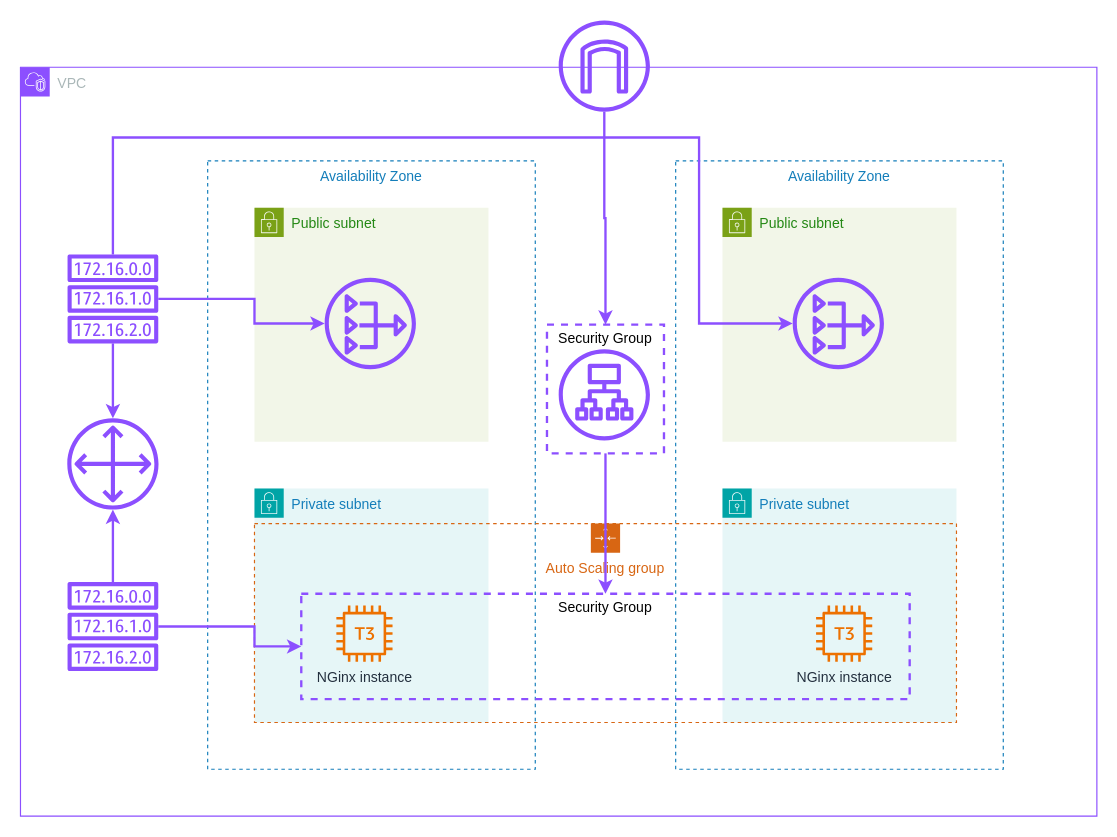
The diagram is 1117 pixels wide and 837 high, and some of its shapes have lost their labels. The shapes that lost their labels are listed below. From the top down, each one's centre as x and y in pixels, then its label:
At point 112,298: "Public RT".
At point 112,625: "Private RT".
